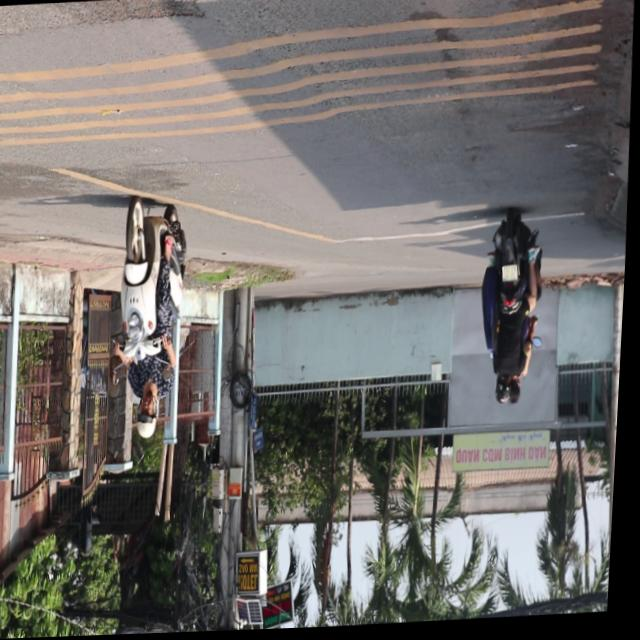helmet: (138, 394, 163, 441), (498, 383, 515, 411)
licenseplate: (110, 193, 197, 444), (476, 213, 549, 416)
motorcyclist: (509, 382, 525, 411)
nohelmet: (504, 270, 520, 286)
